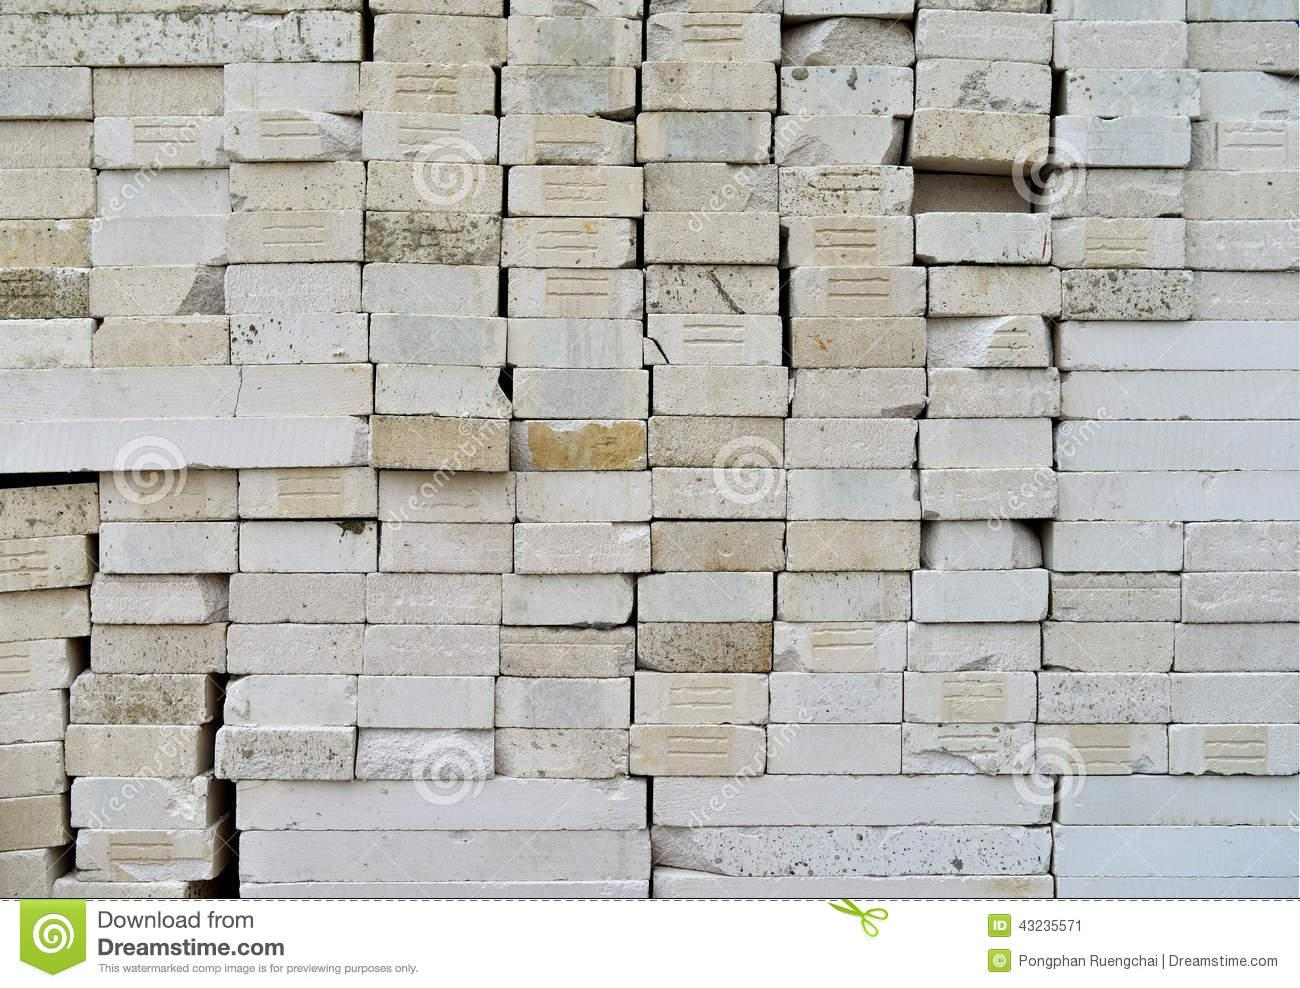brick: (240, 829, 652, 882), (237, 775, 647, 828), (0, 364, 372, 421), (0, 416, 369, 473), (654, 774, 1054, 824), (1, 10, 362, 65), (652, 825, 1050, 875), (1053, 824, 1299, 876), (1059, 773, 1300, 825), (1055, 420, 1300, 471), (1059, 471, 1299, 520), (1061, 371, 1300, 419), (1061, 322, 1300, 369), (655, 875, 1053, 899), (369, 415, 509, 471), (911, 108, 1050, 162), (362, 263, 499, 317), (916, 9, 1052, 63), (376, 364, 511, 418), (72, 775, 206, 829), (915, 58, 1050, 112), (364, 212, 501, 265), (642, 313, 781, 365), (363, 111, 498, 164), (913, 569, 1048, 622), (369, 313, 506, 365), (920, 467, 1057, 519), (363, 625, 500, 677), (357, 676, 494, 728), (367, 573, 501, 626), (90, 573, 229, 624), (215, 729, 354, 779), (360, 62, 496, 114), (100, 469, 238, 520), (240, 521, 378, 572), (100, 522, 238, 573), (367, 161, 502, 213), (77, 828, 212, 880), (1054, 115, 1191, 166), (226, 211, 363, 262), (91, 215, 228, 266), (629, 724, 766, 775), (635, 671, 769, 723), (65, 724, 199, 776), (499, 113, 635, 164), (88, 267, 224, 318), (513, 368, 648, 419), (515, 523, 651, 574), (70, 675, 205, 725), (356, 729, 494, 778), (637, 112, 772, 163), (644, 213, 779, 264), (225, 263, 360, 313), (508, 268, 643, 319), (93, 315, 228, 366), (792, 317, 926, 367), (654, 365, 789, 416), (648, 416, 783, 467), (652, 467, 786, 518), (517, 471, 652, 522), (767, 723, 902, 774), (94, 116, 228, 167), (1052, 217, 1186, 268), (507, 16, 641, 66), (380, 471, 514, 522), (785, 520, 919, 571), (500, 626, 634, 677), (769, 673, 903, 723), (223, 675, 357, 725), (496, 677, 630, 728), (1168, 723, 1299, 775), (230, 162, 366, 212), (231, 313, 367, 363), (229, 573, 365, 623), (787, 469, 920, 520), (225, 110, 363, 159), (239, 468, 377, 517), (916, 213, 1051, 263), (508, 319, 643, 368), (374, 13, 508, 63), (642, 60, 777, 110), (908, 621, 1040, 671), (644, 163, 778, 213), (508, 166, 642, 216), (502, 218, 636, 268), (638, 623, 772, 673), (496, 729, 630, 778), (503, 574, 634, 625), (790, 267, 925, 315), (510, 420, 646, 469), (228, 624, 364, 673), (223, 63, 359, 112), (781, 217, 914, 267), (928, 367, 1060, 417), (380, 523, 513, 573), (905, 671, 1038, 721), (779, 167, 914, 216), (792, 368, 926, 417), (638, 572, 773, 621), (926, 315, 1053, 367), (782, 17, 914, 66), (785, 418, 917, 468), (903, 723, 1034, 773), (775, 115, 904, 166), (652, 522, 785, 571), (91, 625, 227, 673), (646, 266, 779, 314), (778, 572, 911, 621), (1062, 271, 1192, 321), (1040, 673, 1169, 722), (1049, 169, 1184, 217), (774, 622, 906, 670), (1044, 622, 1172, 671), (1170, 673, 1298, 722), (919, 418, 1052, 466), (501, 66, 634, 114), (781, 66, 914, 114), (1053, 522, 1183, 571), (95, 168, 230, 215), (929, 267, 1060, 314), (1054, 21, 1187, 67), (1067, 70, 1199, 116), (1174, 623, 1300, 671), (1036, 725, 1167, 772), (92, 68, 223, 115), (647, 13, 780, 59), (1052, 574, 1180, 621), (1181, 571, 1300, 621), (923, 520, 1042, 570), (1184, 521, 1300, 571), (1185, 220, 1300, 270), (1185, 170, 1300, 219), (1186, 22, 1300, 71), (0, 484, 99, 539), (1192, 120, 1300, 170), (1056, 877, 1299, 899), (1194, 271, 1299, 321), (0, 536, 90, 592), (1199, 72, 1300, 119), (0, 588, 90, 641), (0, 168, 95, 218), (0, 67, 93, 118), (1, 319, 95, 367), (0, 219, 93, 268), (1, 267, 88, 319), (0, 121, 93, 168), (0, 741, 64, 797), (0, 795, 64, 851), (0, 691, 64, 743), (0, 642, 67, 690), (0, 850, 48, 899)
